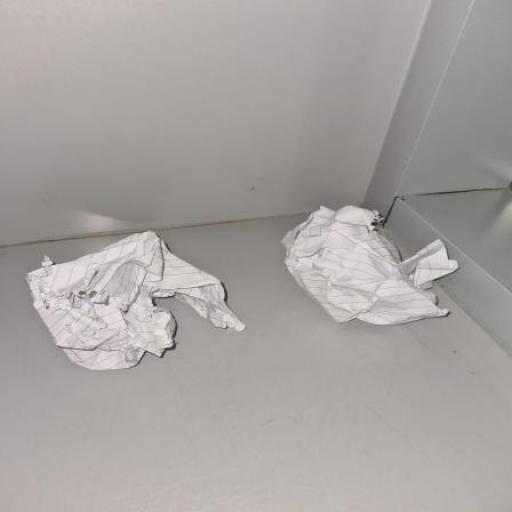paper: (14, 216, 250, 389), (251, 192, 482, 354)
